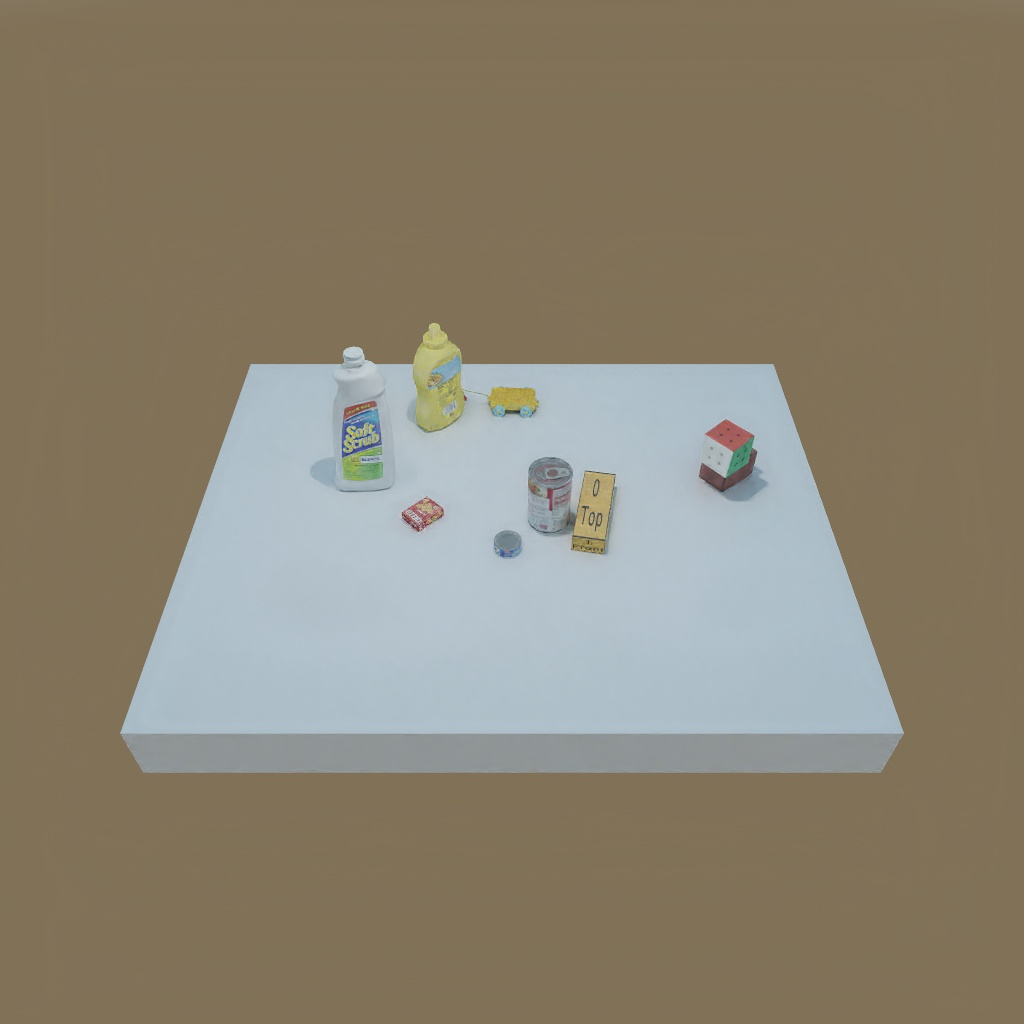jenga: (572, 460, 620, 557)
mustard_bottle: (405, 321, 472, 436)
rubiks_cube: (698, 418, 754, 477)
tomato_soup_can: (524, 451, 578, 533)
